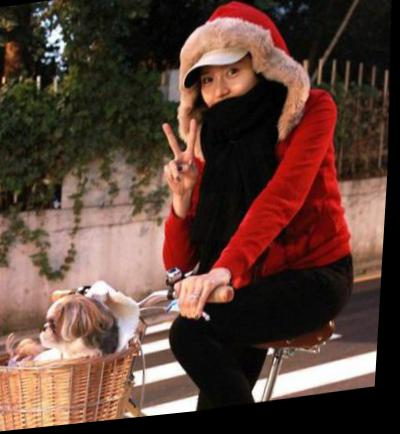WRONG: (193, 61, 268, 135)
